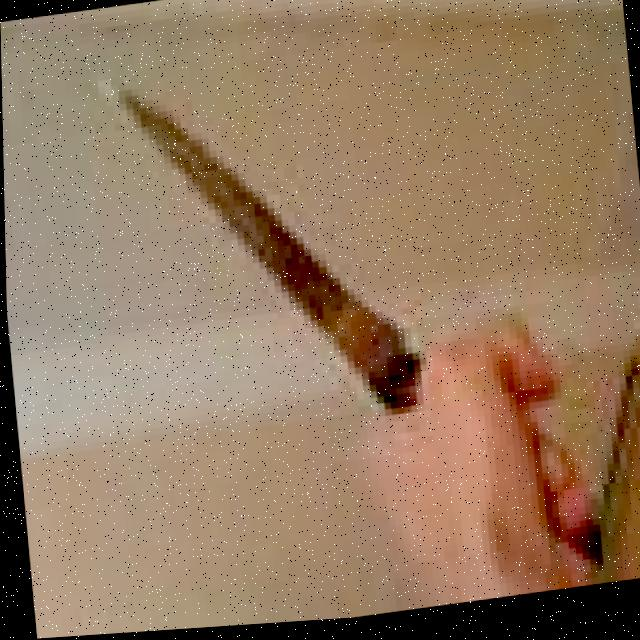knife: (109, 49, 429, 452)
